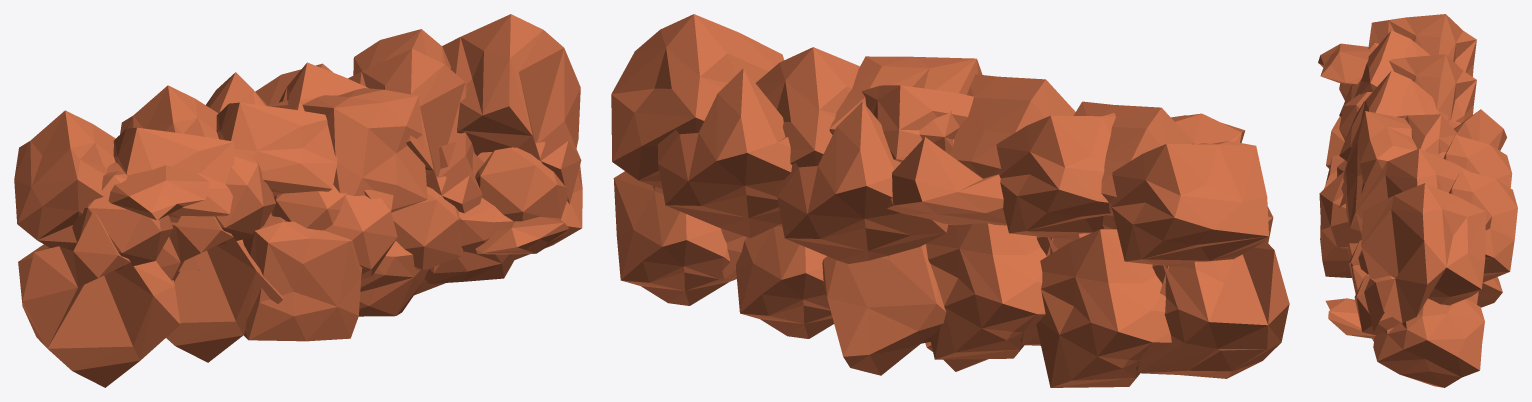
The model's file is clifrock.fbx.
The picture shows the model from 3 angles, left to right: view 1: azimuth 30°, elevation 25°; view 2: azimuth 150°, elevation 25°; view 3: azimuth 270°, elevation 25°; orthographic projection. The views are drawn at different scales.
Visible parts, largest first — view 1: Cube.000; view 2: Cube.000; view 3: Cube.000.
Part boxes in pixels (box(x1,y1,x2,y2)): Cube.000: box(14, 14, 582, 387); Cube.000: box(611, 14, 1289, 387); Cube.000: box(1318, 14, 1517, 387).
Size of the model in its own units: 1257 by 543 by 468.
